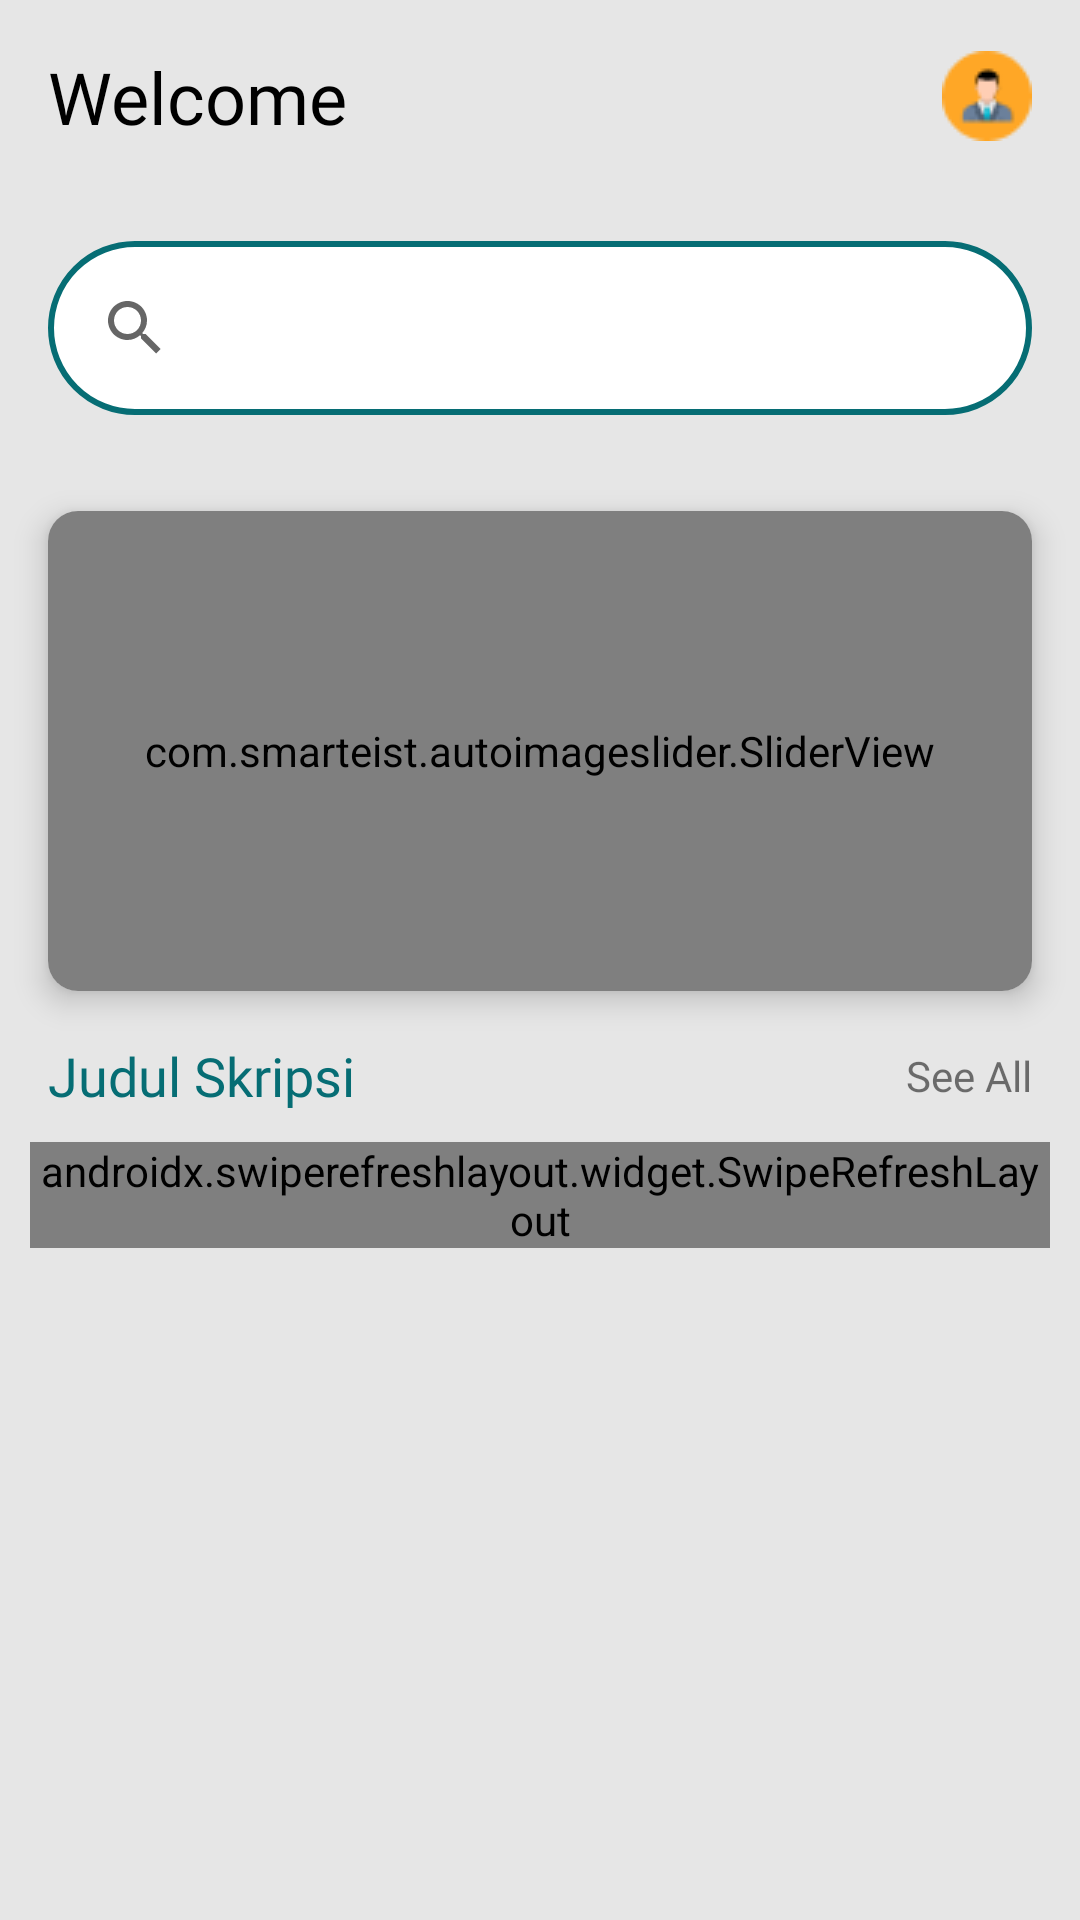

Screen size 1080×1920. Icon name, then its box in pixels as (x1, y1, x2, y2):
user: (942, 51, 1032, 141)
